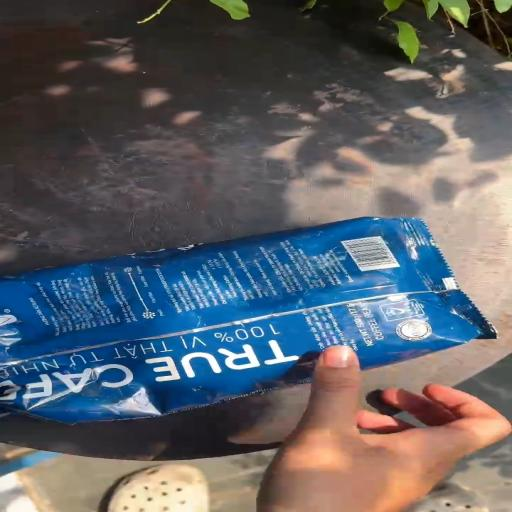cafe_hat: (0, 218, 496, 423)
